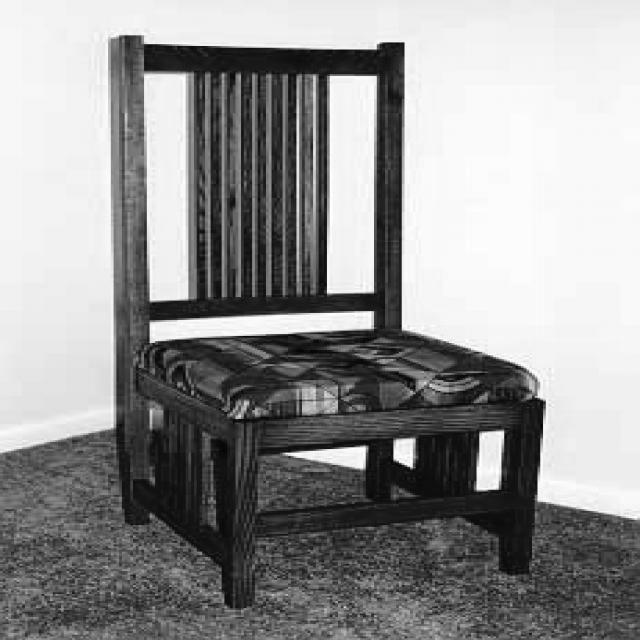chair: (102, 36, 550, 608)
